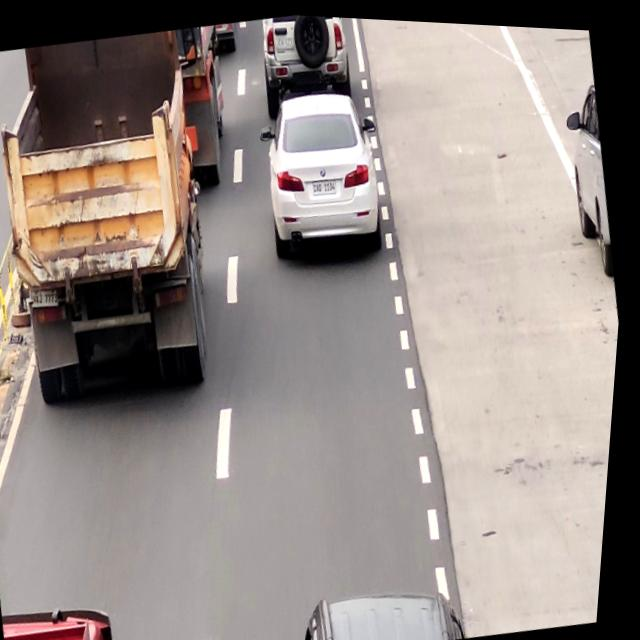Car: (250, 77, 397, 268), (291, 569, 485, 640)
License-Plate: (33, 285, 66, 311), (312, 173, 341, 194)
Truck: (0, 19, 241, 417), (10, 599, 144, 640)
